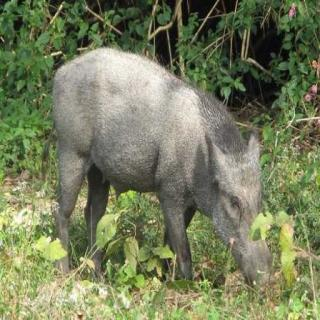Pig: (29, 22, 297, 303)
